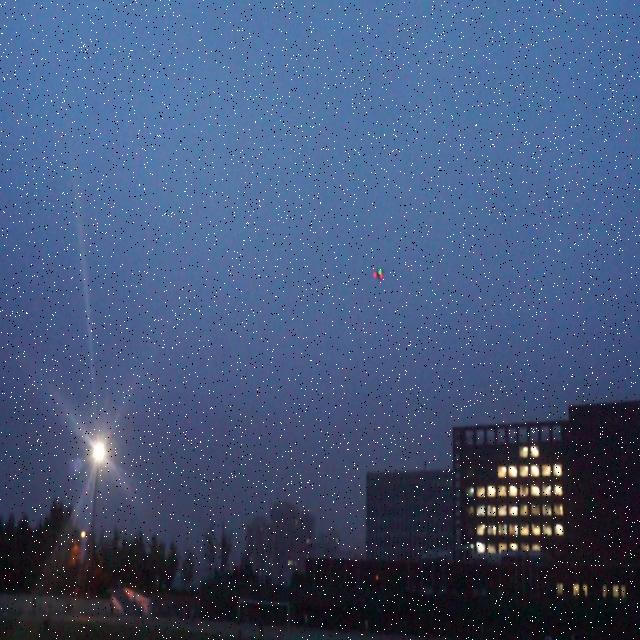UAV: (373, 269, 384, 279)
